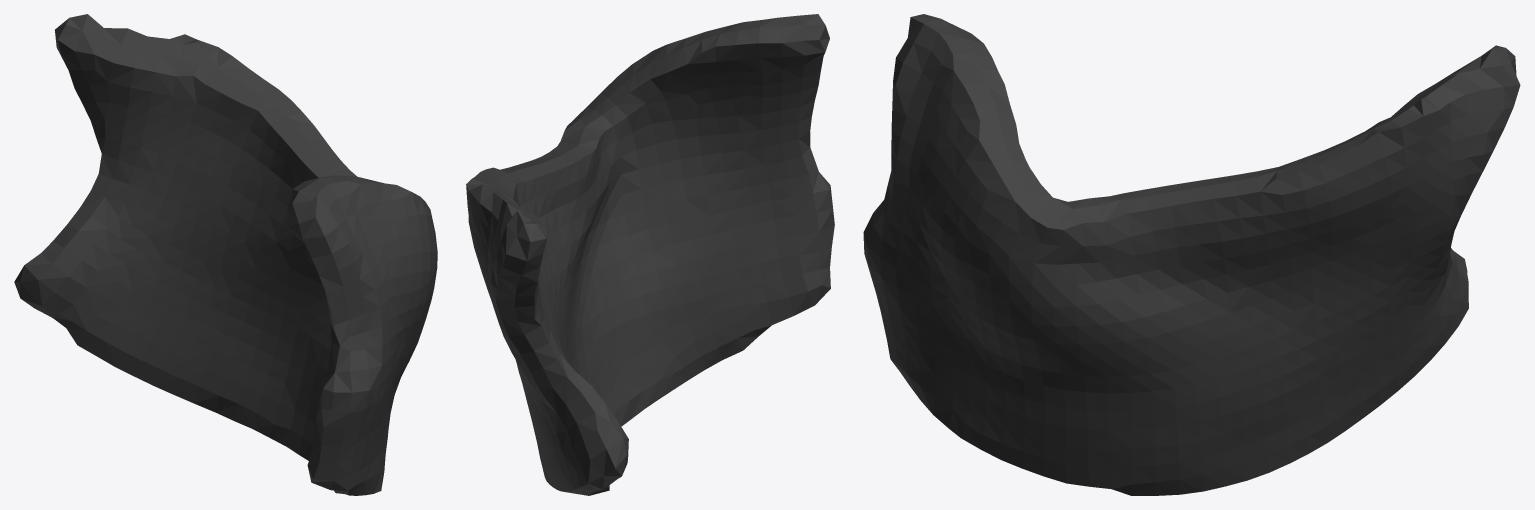
Rendered from ATRIUM_L.glb.
3 views of the same model, side by side, from view 1: azimuth 30°, elevation 25°; view 2: azimuth 150°, elevation 25°; view 3: azimuth 270°, elevation 25° (orthographic). The views are drawn at different scales.
Visible parts, largest first — view 1: ATRIUM_L; view 2: ATRIUM_L; view 3: ATRIUM_L.
Boxes of the visible parts, bbox=[...] form: ATRIUM_L: bbox=[14, 14, 437, 495]; ATRIUM_L: bbox=[466, 14, 834, 495]; ATRIUM_L: bbox=[863, 14, 1520, 495].
Size of the model in its own units: 19.82 by 29.97 by 43.72.
1 material, 1 textured.
